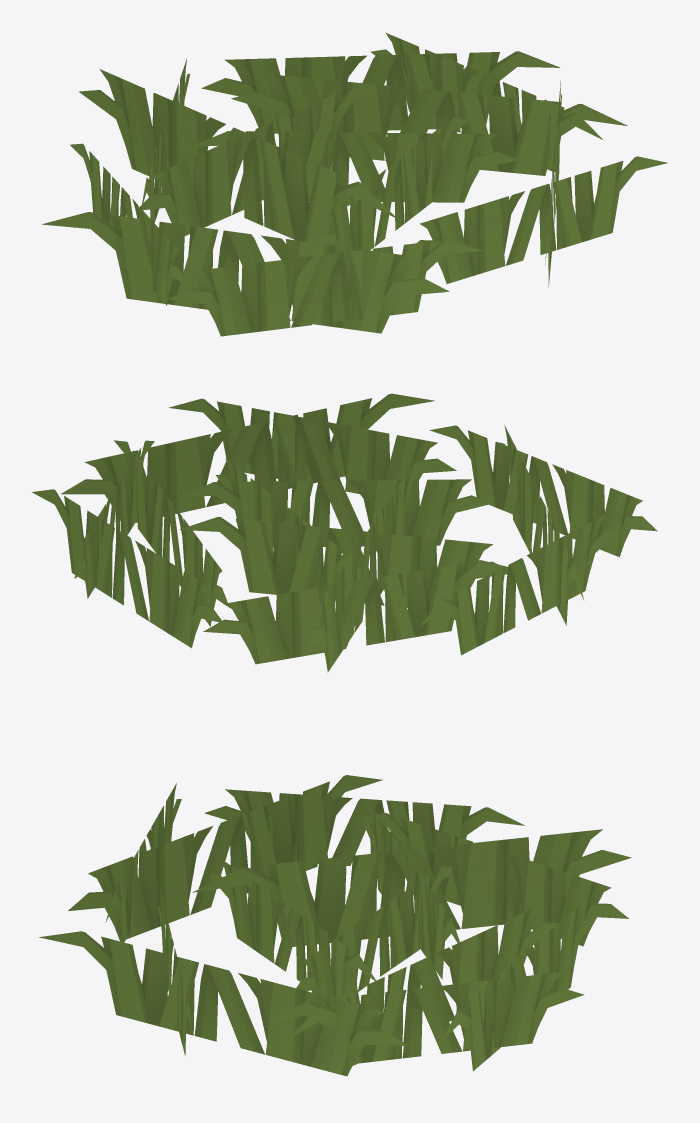
File: SM_Env_Grass_Short_Clump_03.fbx
3 views of the same model, one above another, from view 1: azimuth 30°, elevation 25°; view 2: azimuth 150°, elevation 25°; view 3: azimuth 270°, elevation 25° (orthographic). The views are drawn at different scales.
Parts seen in each view (by area): view 1: SM_Env_Grass_Short_Clump_03_LOD0; view 2: SM_Env_Grass_Short_Clump_03_LOD0; view 3: SM_Env_Grass_Short_Clump_03_LOD0.
Boxes of the visible parts, left/top/right/bottom form: SM_Env_Grass_Short_Clump_03_LOD0: left=42, top=32, right=667, bottom=336; SM_Env_Grass_Short_Clump_03_LOD0: left=32, top=393, right=657, bottom=672; SM_Env_Grass_Short_Clump_03_LOD0: left=39, top=775, right=631, bottom=1076.
Size of what is drawn, in the model's own units: 172 by 26.84 by 173.
